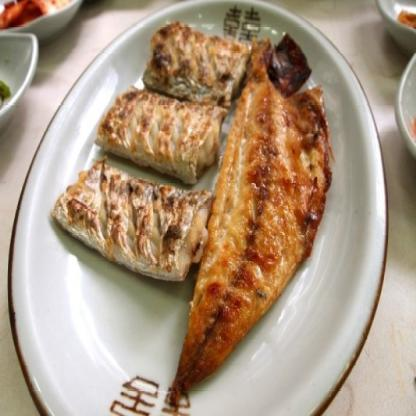Peixe: (175, 31, 348, 400)
